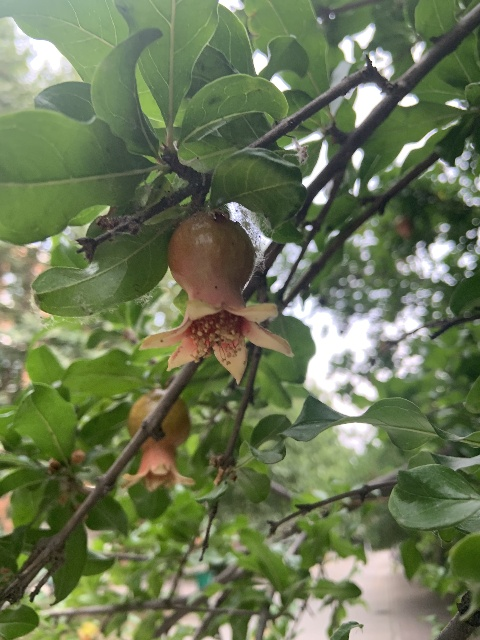early-fruit: (138, 210, 293, 386), (119, 391, 198, 492)
